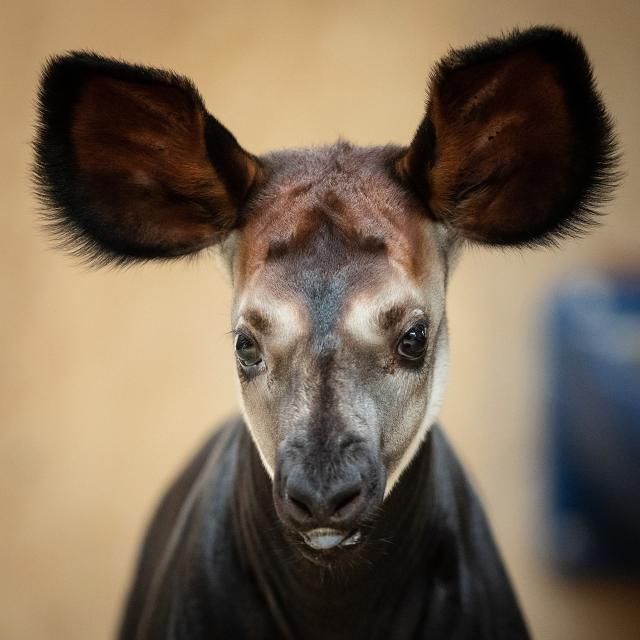Okapi: (38, 21, 613, 640)
